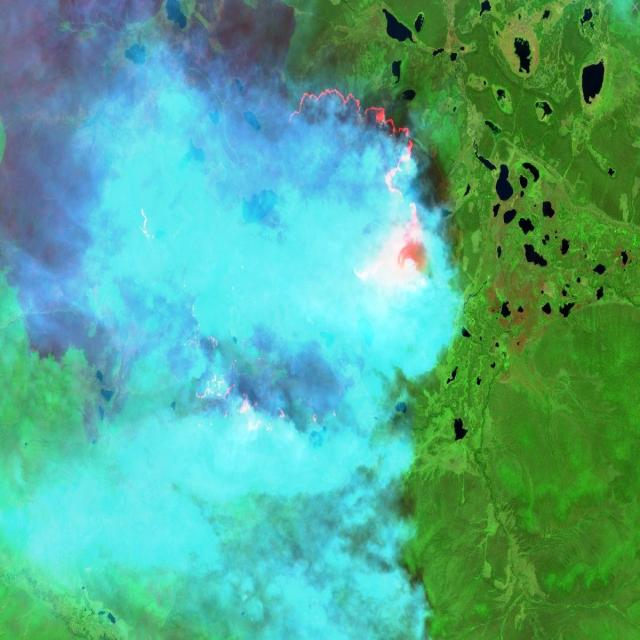fire: (246, 48, 436, 362)
